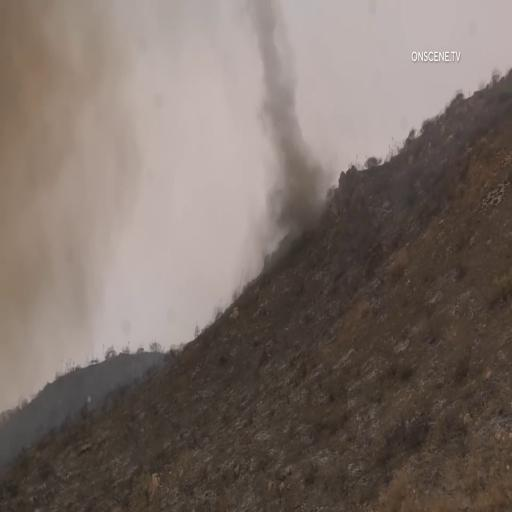smoke: (0, 21, 97, 244), (239, 13, 316, 225)
